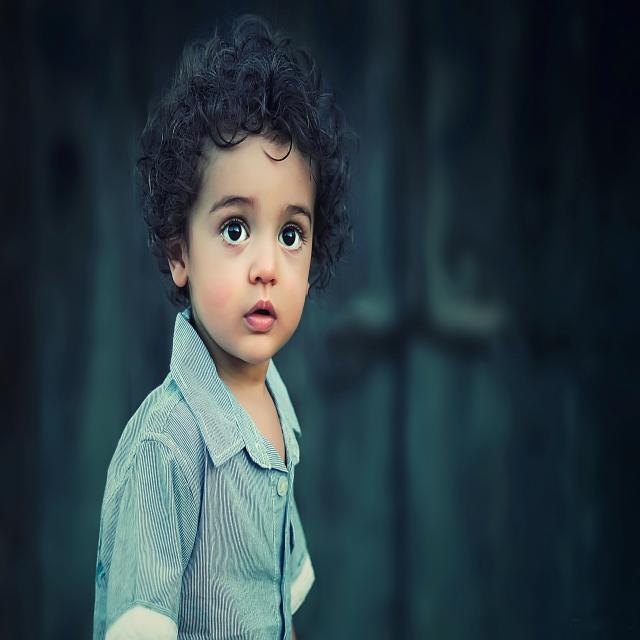child: (92, 23, 356, 639)
